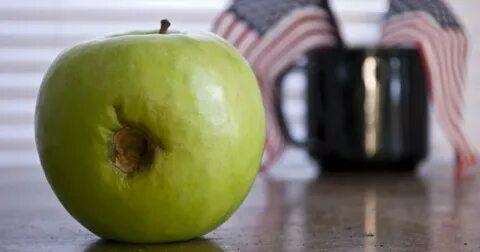Apple: (34, 30, 266, 244)
